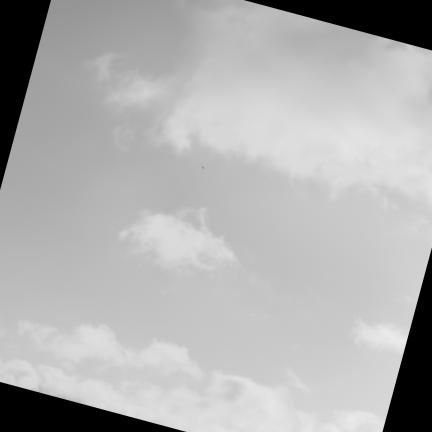Shahed: (201, 165, 205, 170)
